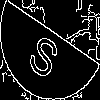S: (25, 25, 66, 81)
